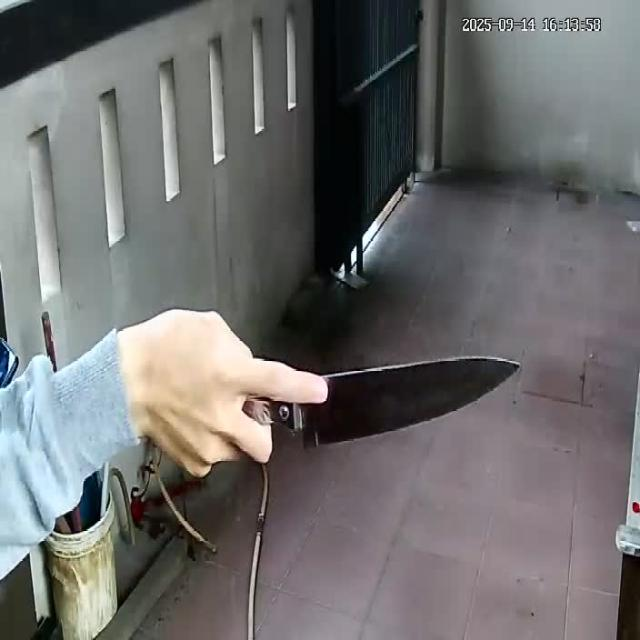senjata_tajam: (273, 356, 525, 451)
